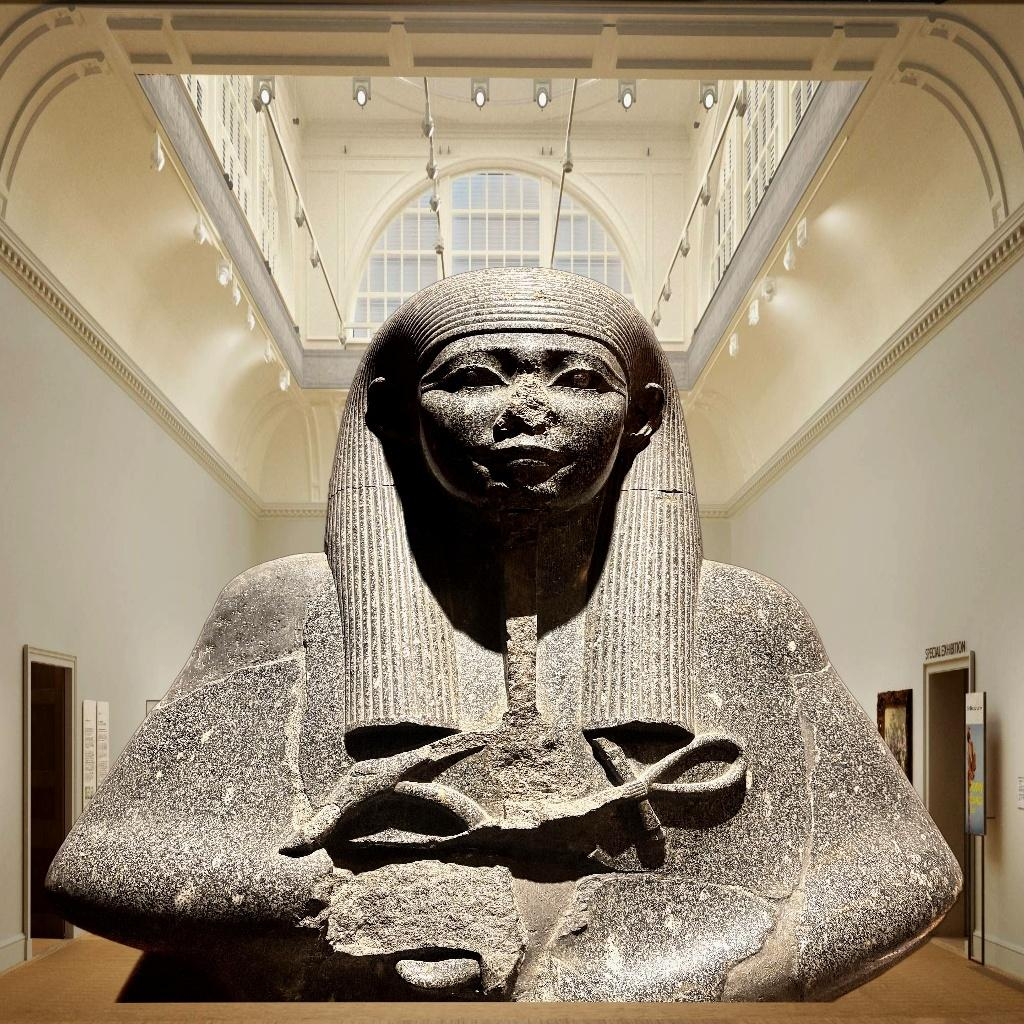Granite Statue of Osiris: (42, 265, 998, 1003)
